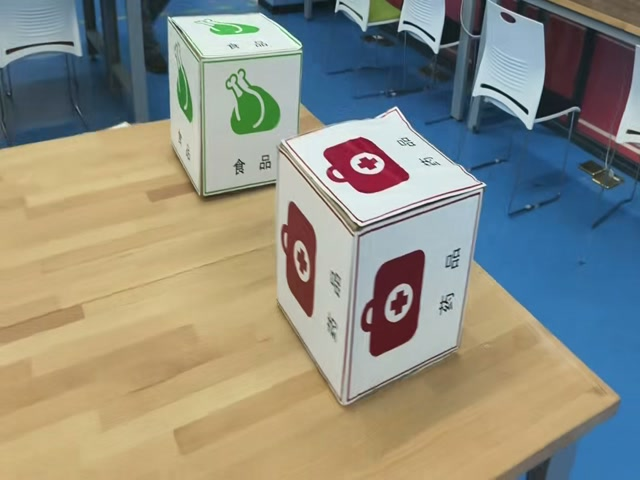Cube_food: (166, 14, 302, 65)
Cube_medicine: (281, 110, 493, 241)
